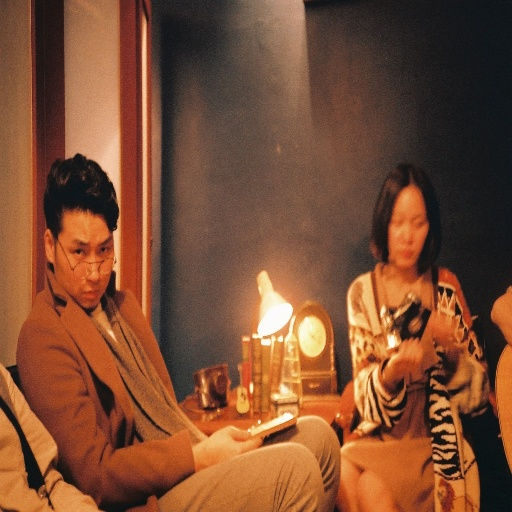hand: (197, 421, 266, 466), (387, 335, 422, 382), (489, 285, 511, 347)
